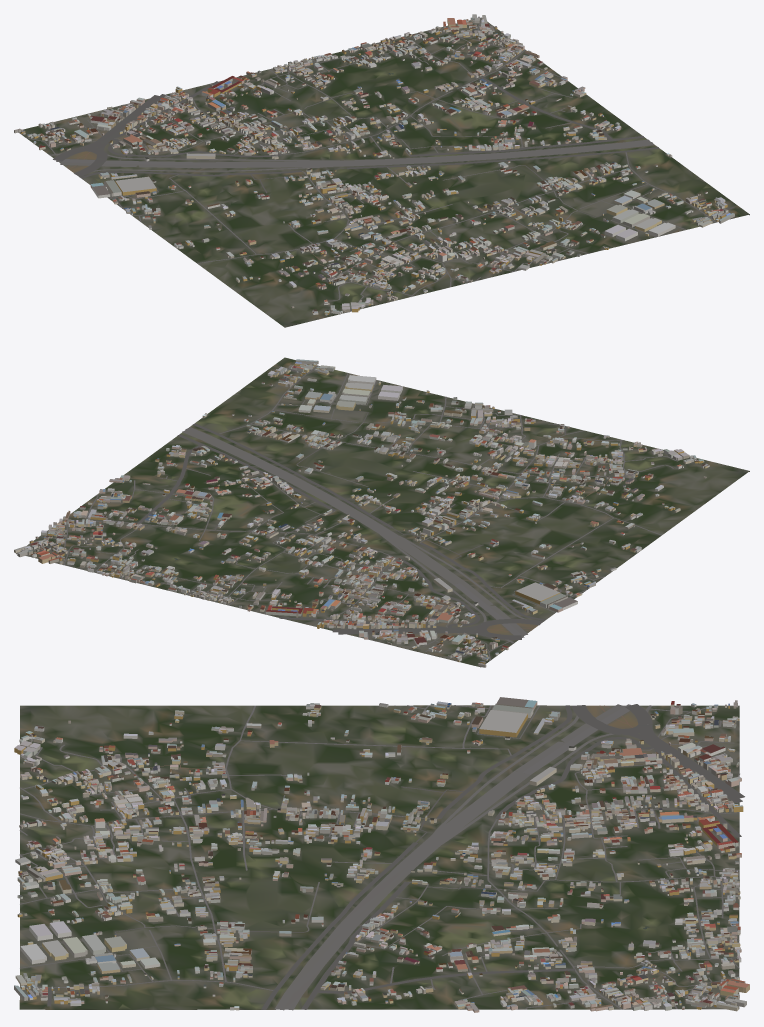
3 views of the same model, one above another, from view 1: azimuth 30°, elevation 25°; view 2: azimuth 150°, elevation 25°; view 3: azimuth 270°, elevation 25° (orthographic). The views are drawn at different scales.
Parts seen in each view (by area): view 1: ground, buildings, roads; view 2: ground, buildings, roads; view 3: ground, buildings, roads.
Boxes of the visible parts, bbox=[...] form: ground: bbox=[19, 17, 749, 327]; buildings: bbox=[14, 14, 734, 315]; roads: bbox=[25, 17, 734, 311]; ground: bbox=[16, 357, 749, 667]; buildings: bbox=[14, 359, 709, 667]; roads: bbox=[16, 365, 677, 660]; ground: bbox=[19, 705, 739, 1009]; buildings: bbox=[14, 697, 749, 1012]; roads: bbox=[19, 704, 744, 1010].
Bounding box in the file's own units: 1437 × 20.53 × 1432.
